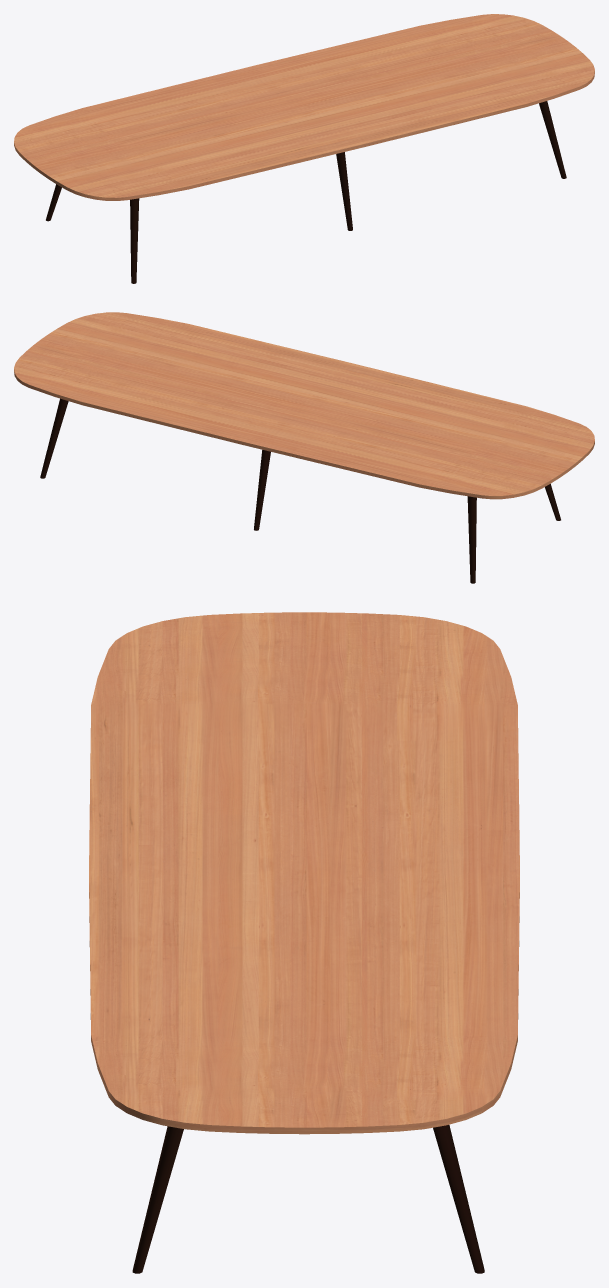
The model's file is WoodenTable.fbx.
3 views of the same model, one above another, from view 1: azimuth 30°, elevation 25°; view 2: azimuth 150°, elevation 25°; view 3: azimuth 270°, elevation 25° (orthographic). The views are drawn at different scales.
Visible parts, largest first — view 1: WoodenTable1; view 2: WoodenTable1; view 3: WoodenTable1.
Boxes of the visible parts, <box> form: WoodenTable1: <box>14,14,594,283</box>; WoodenTable1: <box>14,312,594,583</box>; WoodenTable1: <box>89,612,519,1273</box>.
Bounding box in the file's own units: 434 × 74.19 × 153.
